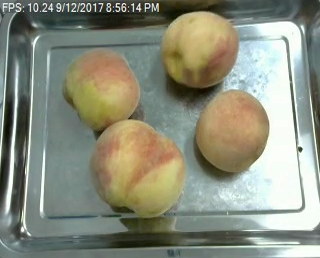Peach: (90, 117, 184, 217), (61, 46, 141, 130), (194, 89, 269, 172), (160, 10, 239, 87)
